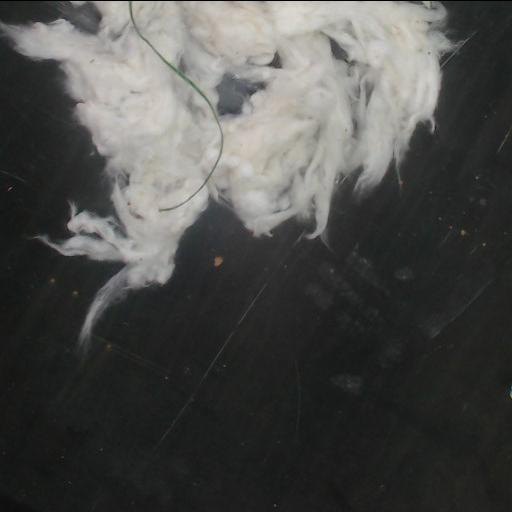conveyor belt: (0, 1, 511, 512), (216, 73, 263, 114), (48, 1, 101, 33), (0, 1, 60, 21), (330, 39, 347, 61)
cotton: (0, 1, 453, 340)
thread: (128, 1, 223, 212)
